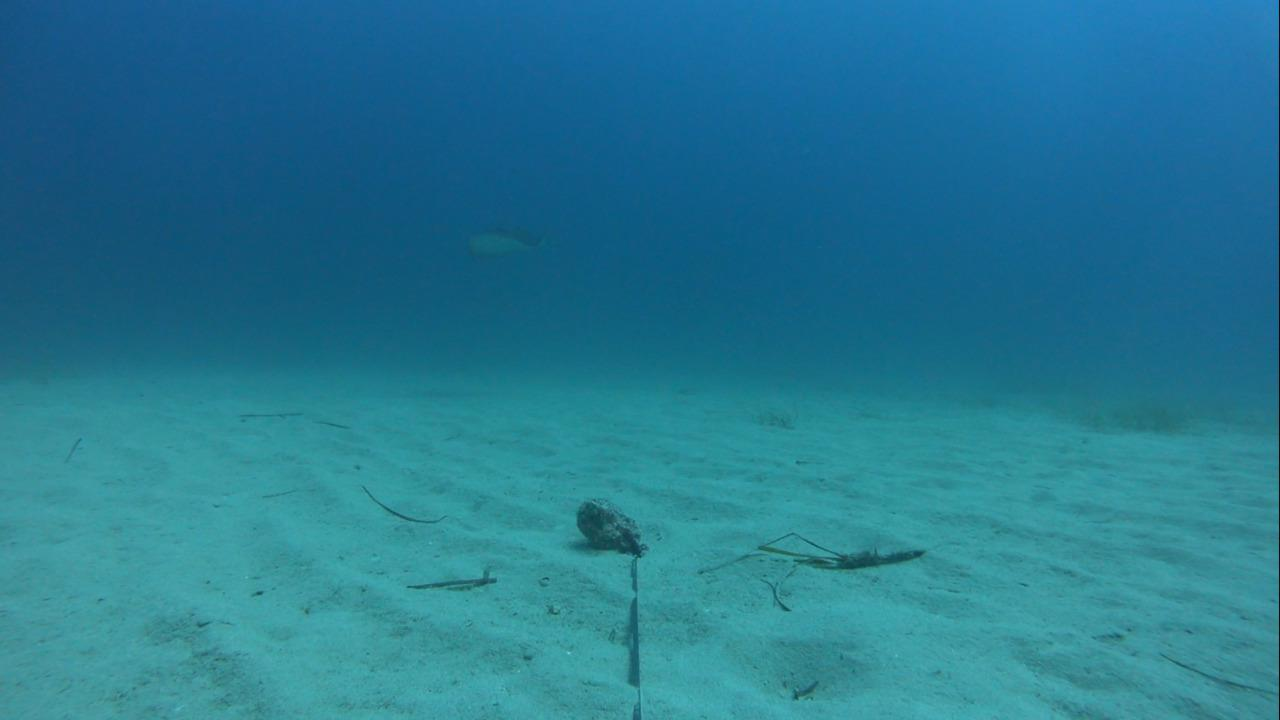myliobatis: (453, 219, 575, 267)
